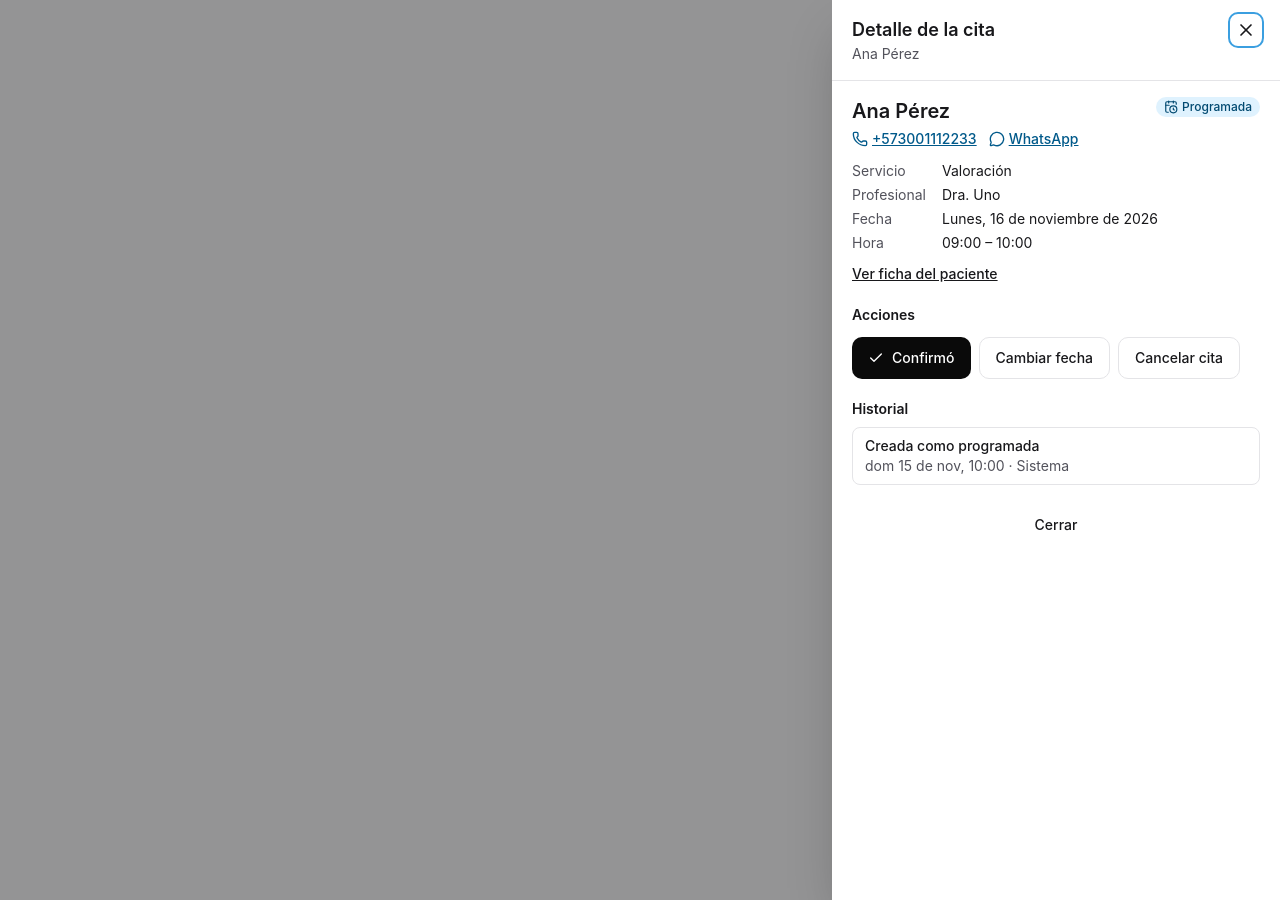
Test: hoja de cita › «Confirmó» registra la confirmación por teléfono y la hoja pasa a Confirmada
Click the button "Confirmó".
click(911, 358)  # box [852, 337, 970, 379]
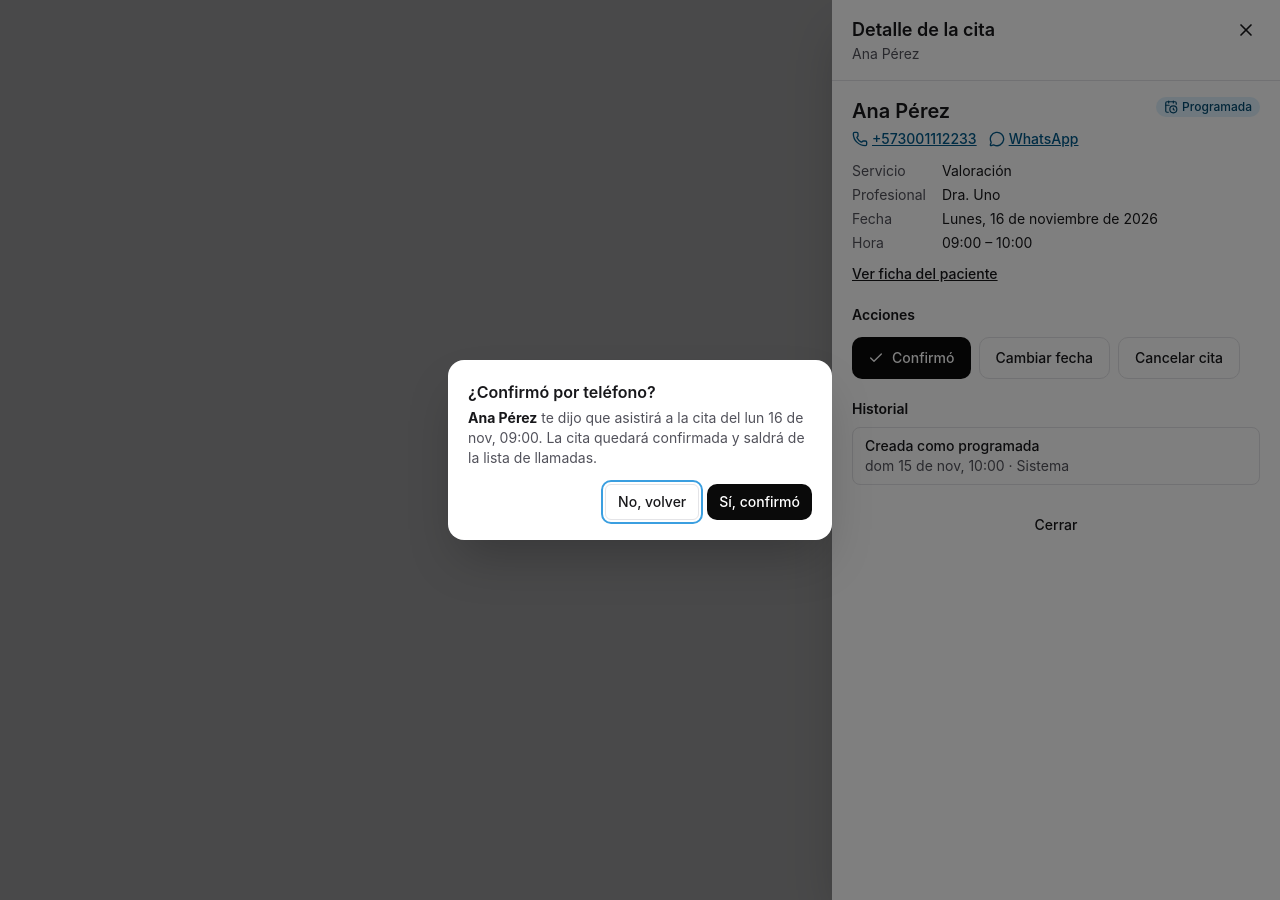
Click the button "Sí, confirmó".
click(760, 502)  # box [707, 484, 812, 520]
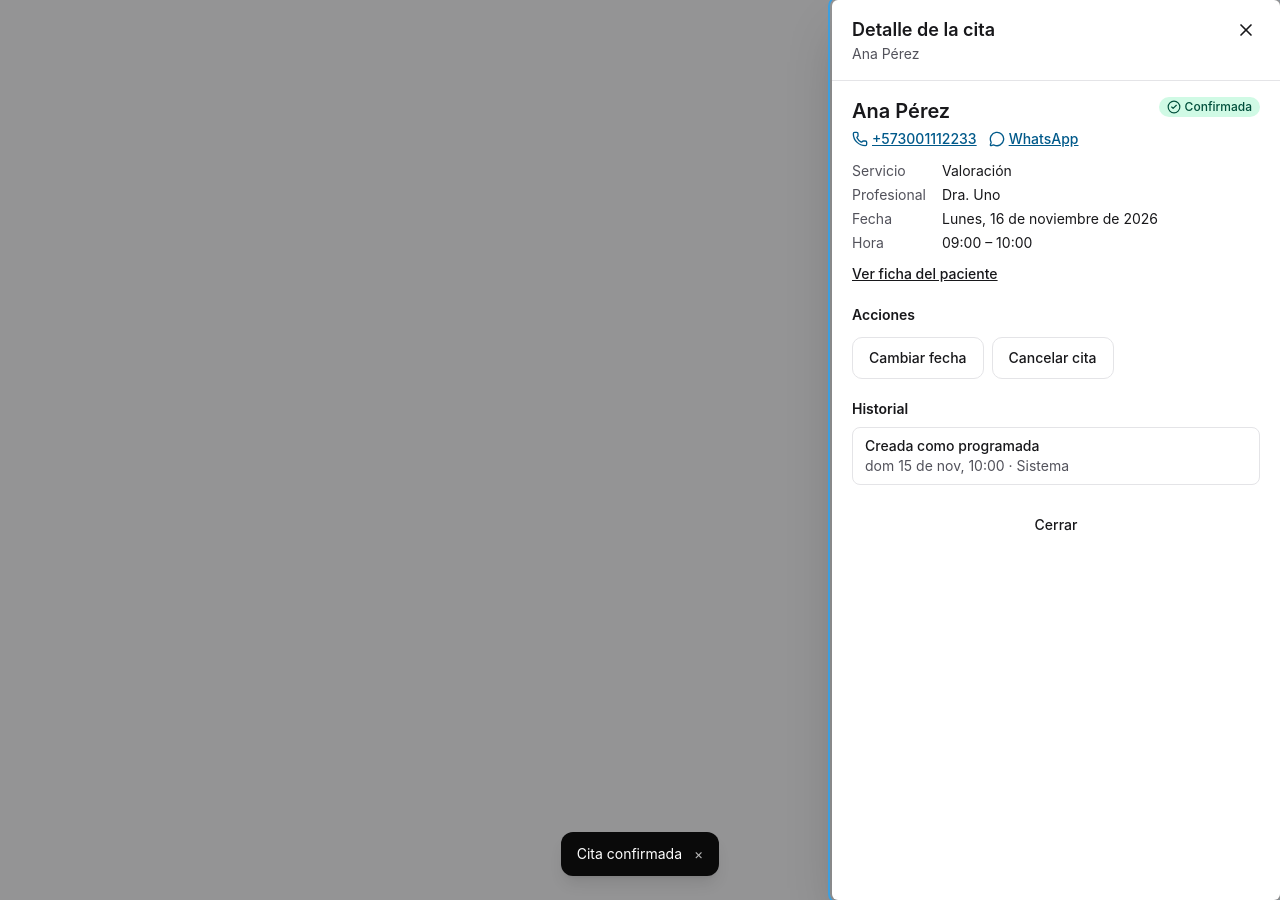
Check: the text "Confirmada" is shown, box [1159, 97, 1260, 117]
Check: the button "Confirmó" is gone
